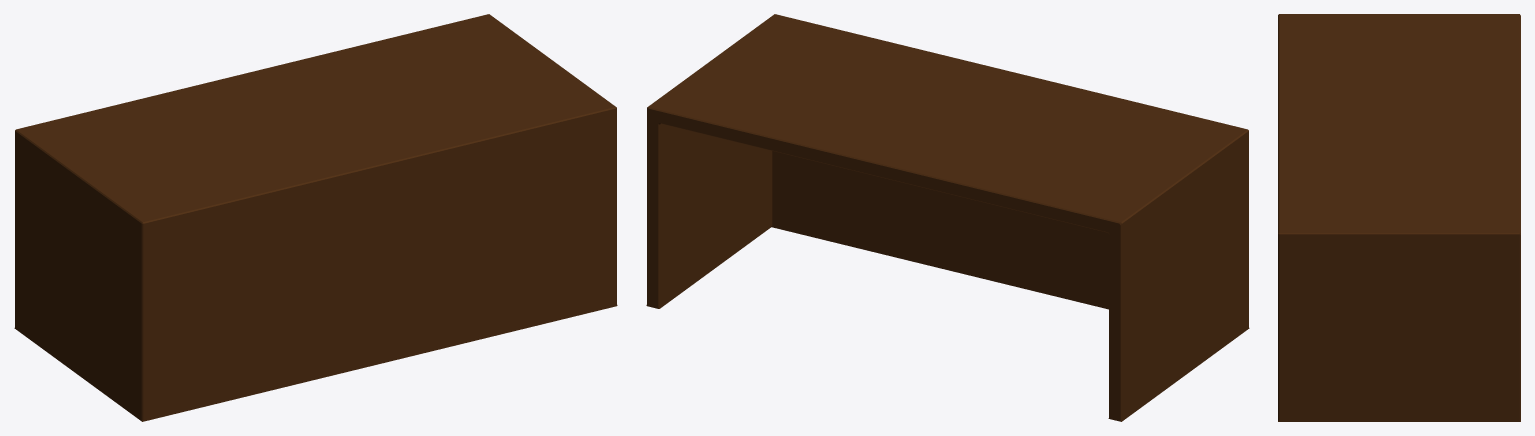
Rendered from Desk.fbx.
3 renders of one model, left to right at view 1: azimuth 30°, elevation 25°; view 2: azimuth 150°, elevation 25°; view 3: azimuth 270°, elevation 25°, orthographic. The views are drawn at different scales.
Parts seen in each view (by area): view 1: Desk; view 2: Desk; view 3: Desk.
Boxes of the visible parts, x1,y1,x2,y2 form: Desk: [14, 14, 617, 421]; Desk: [646, 14, 1249, 421]; Desk: [1278, 14, 1520, 421].
Size of the model in its own units: 75 by 35 by 30.
